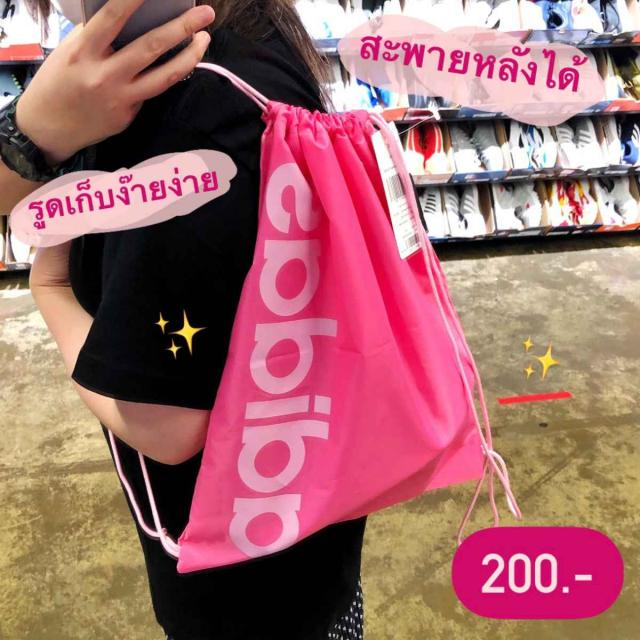Handbag: (170, 103, 496, 576)
